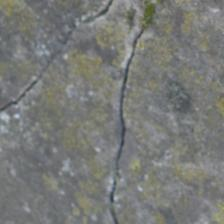Crack: (0, 57, 145, 171), (20, 29, 132, 87)
